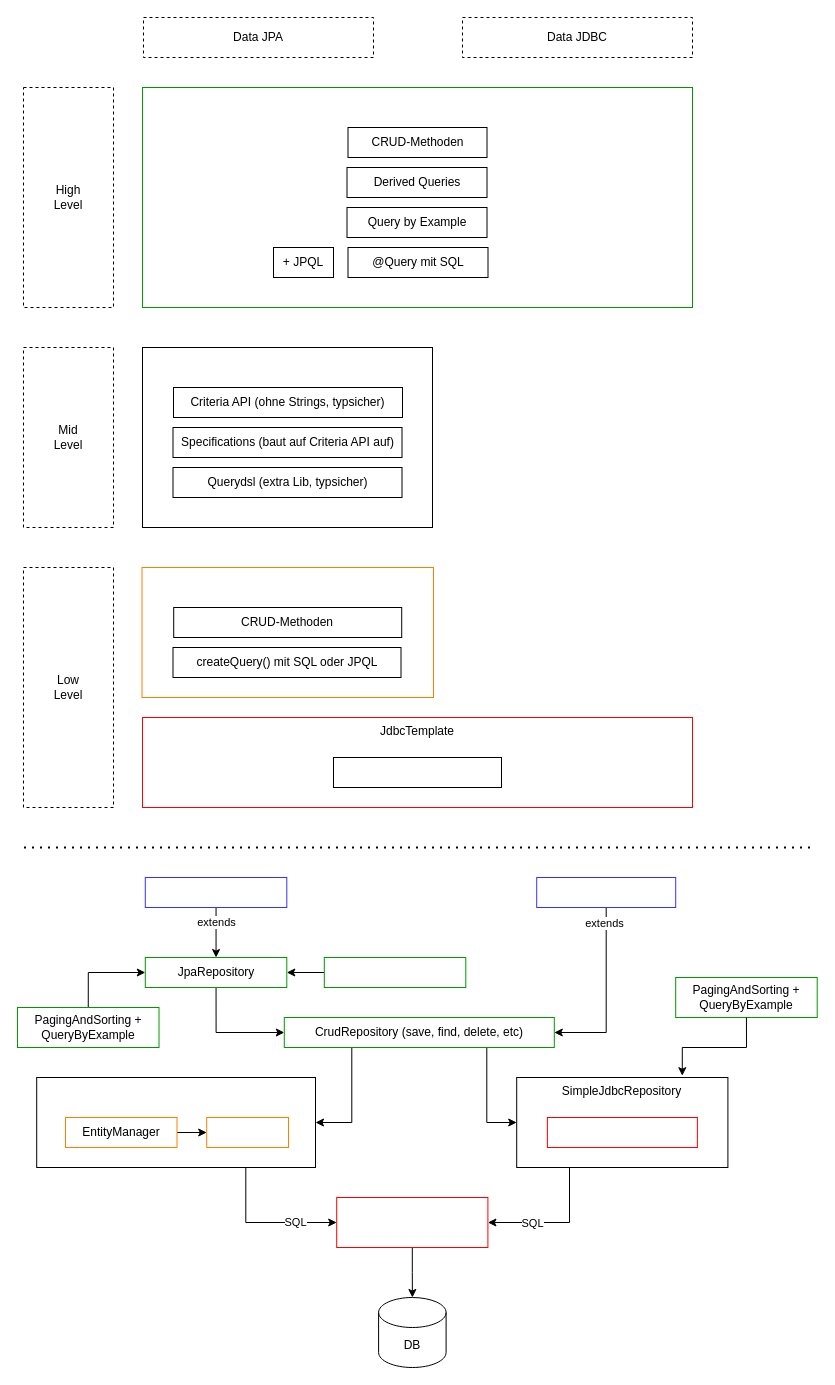
Some shapes in this 835 by 1385 pixel diagram are drawn without their labels. Each missing label, with the box of its shape:
.query() mit SQL: (332, 756, 502, 788)
EntityManager / Hibernate: (141, 566, 434, 698)
Hibernate: (206, 1116, 288, 1148)
JDBC: (336, 1196, 488, 1248)
JdbcAggregateTemplate: (546, 1116, 697, 1148)
ListCrudRepository: (323, 956, 466, 988)
MyJdbcRepository: (536, 876, 676, 908)
MyJpaRepository: (144, 876, 287, 908)
Programmierte Queries: (142, 346, 432, 528)
Repository-Interface: (142, 86, 692, 308)
SimpleJpaRepository: (36, 1076, 316, 1168)
